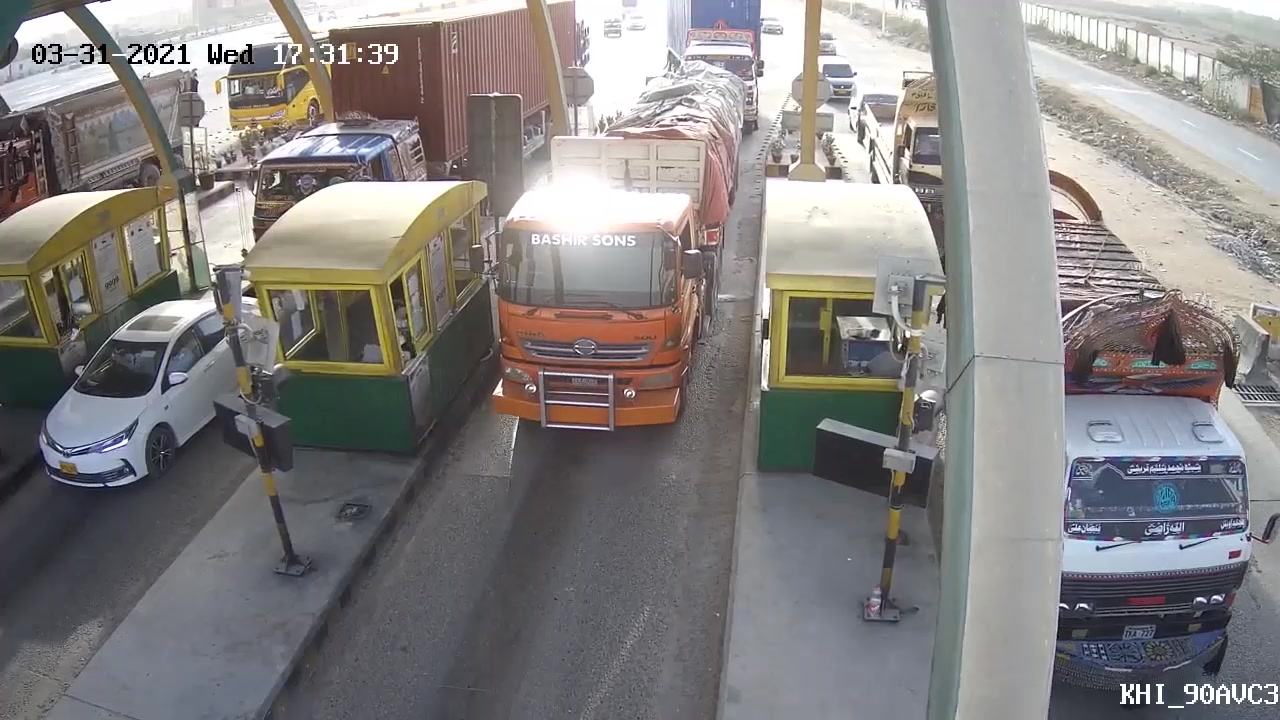F5: (474, 136, 712, 457)
